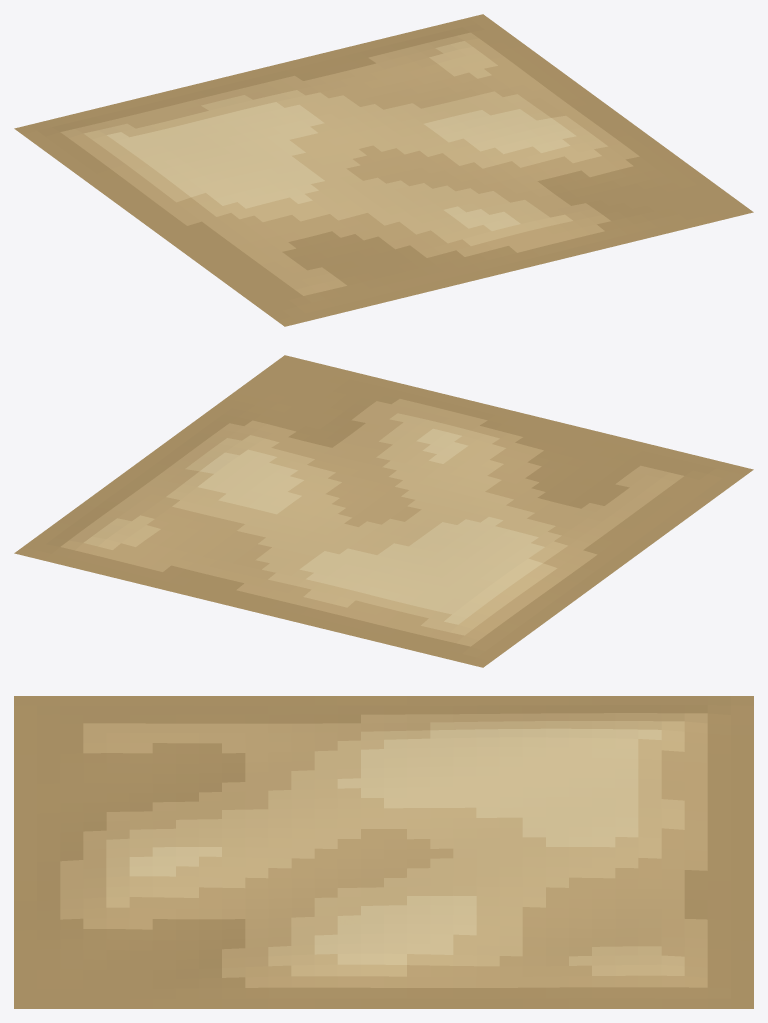
The model's file is suelo-arena-arena-plana-a.glb.
3 renders of one model, top to bottom at view 1: azimuth 30°, elevation 25°; view 2: azimuth 150°, elevation 25°; view 3: azimuth 270°, elevation 25°, orthographic. The views are drawn at different scales.
Parts seen in each view (by area): view 1: arena_plana_a_ArenaHuella, arena_plana_a_ArenaOscura, arena_plana_a_ArenaMedia, arena_plana_a_ArenaClara; view 2: arena_plana_a_ArenaHuella, arena_plana_a_ArenaOscura, arena_plana_a_ArenaMedia, arena_plana_a_ArenaClara; view 3: arena_plana_a_ArenaHuella, arena_plana_a_ArenaOscura, arena_plana_a_ArenaMedia, arena_plana_a_ArenaClara.
Part boxes in pixels (<box>): arena_plana_a_ArenaHuella: <box>14,14,753,326</box>; arena_plana_a_ArenaOscura: <box>60,32,639,295</box>; arena_plana_a_ArenaMedia: <box>83,41,607,245</box>; arena_plana_a_ArenaClara: <box>107,102,576,230</box>; arena_plana_a_ArenaHuella: <box>14,355,753,667</box>; arena_plana_a_ArenaOscura: <box>60,399,683,646</box>; arena_plana_a_ArenaMedia: <box>83,413,567,635</box>; arena_plana_a_ArenaClara: <box>198,428,544,624</box>; arena_plana_a_ArenaHuella: <box>14,696,753,1008</box>; arena_plana_a_ArenaOscura: <box>60,713,707,987</box>; arena_plana_a_ArenaMedia: <box>106,721,684,976</box>; arena_plana_a_ArenaClara: <box>129,728,661,964</box>.
Size of the model in its own units: 8 by 0.0936 by 8.
